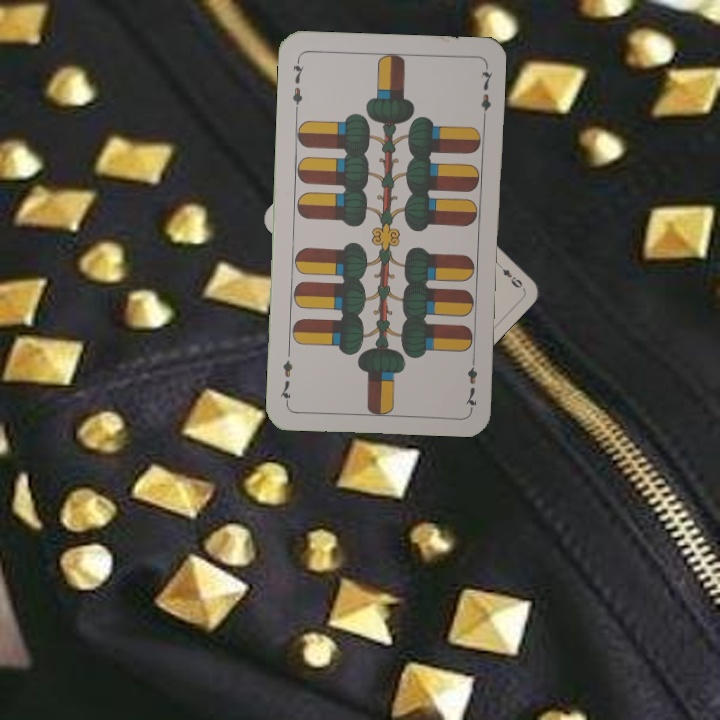E7: (461, 352, 480, 411), (288, 55, 306, 114)
E9: (493, 260, 526, 291)
